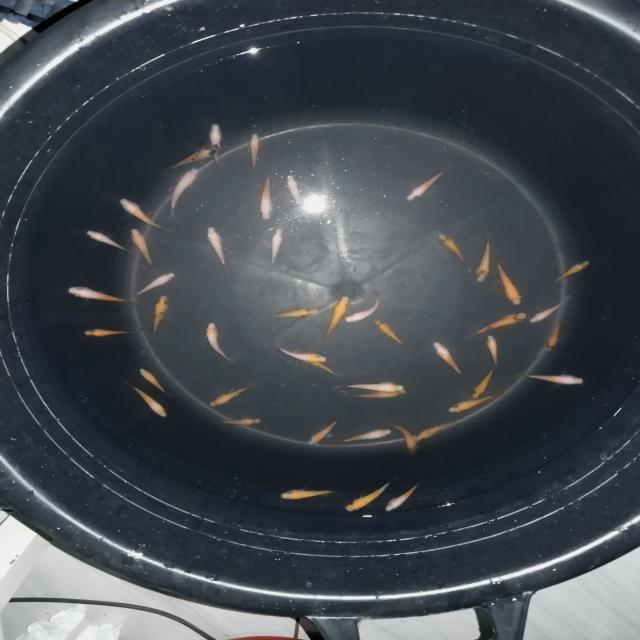nila: (344, 476, 402, 515), (158, 142, 222, 174), (166, 164, 202, 217), (468, 309, 529, 339), (406, 164, 454, 202), (118, 196, 170, 231), (124, 382, 170, 419), (66, 285, 136, 309), (430, 339, 468, 382), (492, 258, 526, 306), (318, 296, 354, 340), (342, 288, 380, 328), (292, 350, 341, 380), (384, 478, 424, 514), (514, 368, 586, 388), (207, 382, 264, 407), (528, 294, 573, 324), (203, 226, 230, 274), (447, 391, 501, 415), (128, 228, 158, 270), (550, 257, 592, 287), (204, 321, 233, 364), (84, 228, 130, 254), (437, 232, 472, 266), (278, 486, 344, 504), (412, 419, 459, 444), (389, 422, 422, 457), (368, 318, 404, 348), (340, 426, 396, 445), (147, 292, 170, 338), (306, 416, 341, 446), (272, 344, 330, 362), (470, 360, 496, 400), (134, 272, 176, 296), (136, 369, 172, 397), (204, 120, 224, 168), (474, 232, 492, 284), (265, 304, 323, 320), (332, 380, 408, 392), (265, 226, 285, 271), (283, 173, 306, 208), (484, 333, 507, 368), (544, 315, 563, 354), (259, 172, 273, 222), (344, 391, 412, 401), (246, 128, 262, 170), (79, 328, 133, 338), (216, 417, 266, 427)
